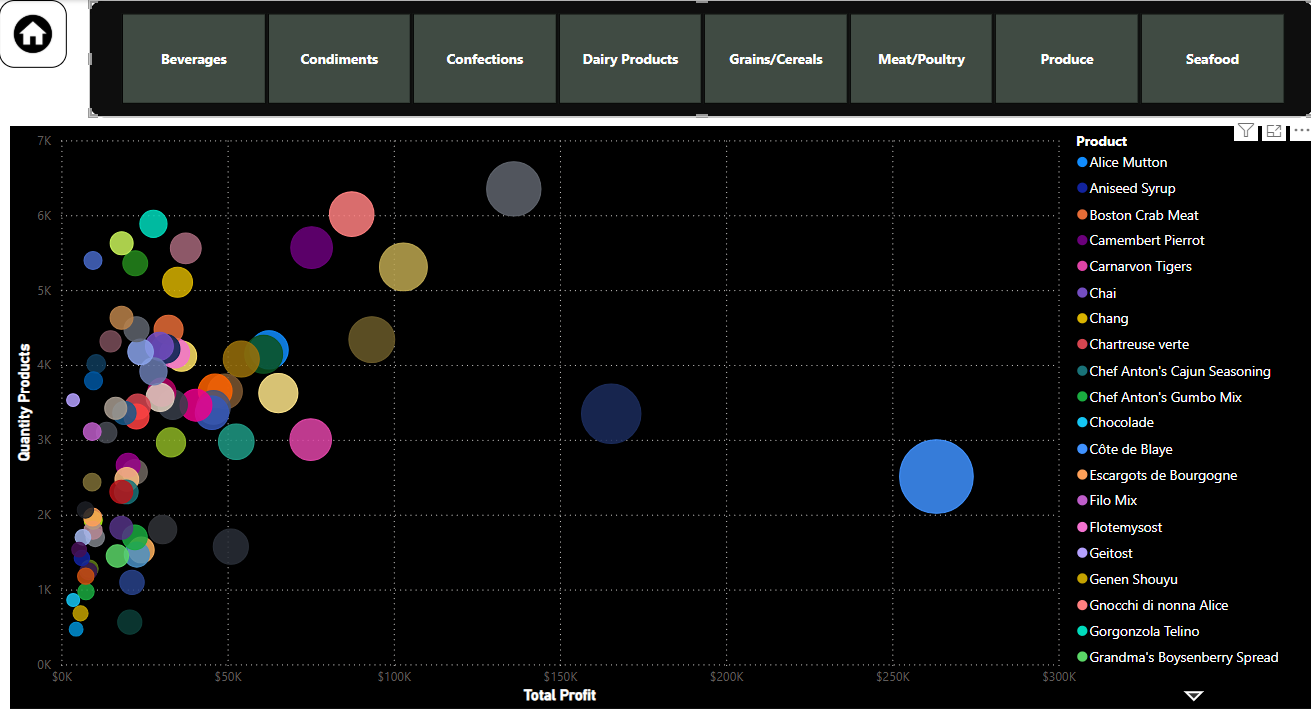

Layout of this report page (visuals, bound fields, positions):
{"tool":"powerbi","page":{"name":"Total Profit and Quantity Products by Products","canvas":[1280,720],"ordinal":3},"visuals":[{"type":"slicer","fields":{"Values":["categories.category_name"]},"box":[87.5,0,1192.5,113.8],"z":0},{"type":"scatterChart","fields":{"Series":["products.product_name"],"X":["Nw_orders_derails_total.Total_Profit"],"Y":["Nw_orders_derails_total.Sum_quantity"],"Size":["Nw_orders_derails_total.Total_Profit"]},"box":[11.2,123,1268.8,566.7],"z":1000},{"type":"image","box":[0,0,66.1,66.1],"z":2000}]}

Visuals, with their boxes on the page's 1280x720 design canvas (x1, y1, x2, y2). These are canvas units, not pixel positions in the 1311x710 screenshot, which may show the page scaled, cropped or inside an application window:
slicer - categories.category_name: box(88, 0, 1280, 114)
scatterChart - products.product_name x Nw_orders_derails_total.Total_Profit: box(11, 123, 1280, 690)
image: box(0, 0, 66, 66)
